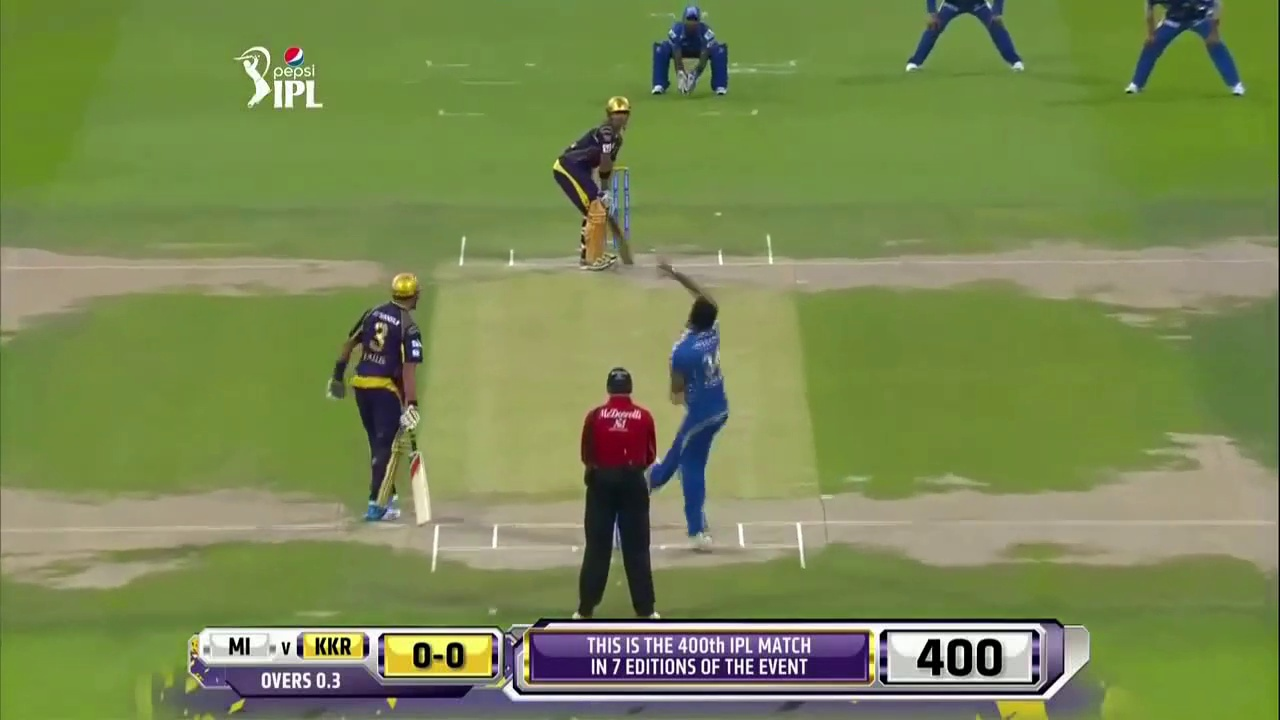bat: (407, 433, 433, 526)
